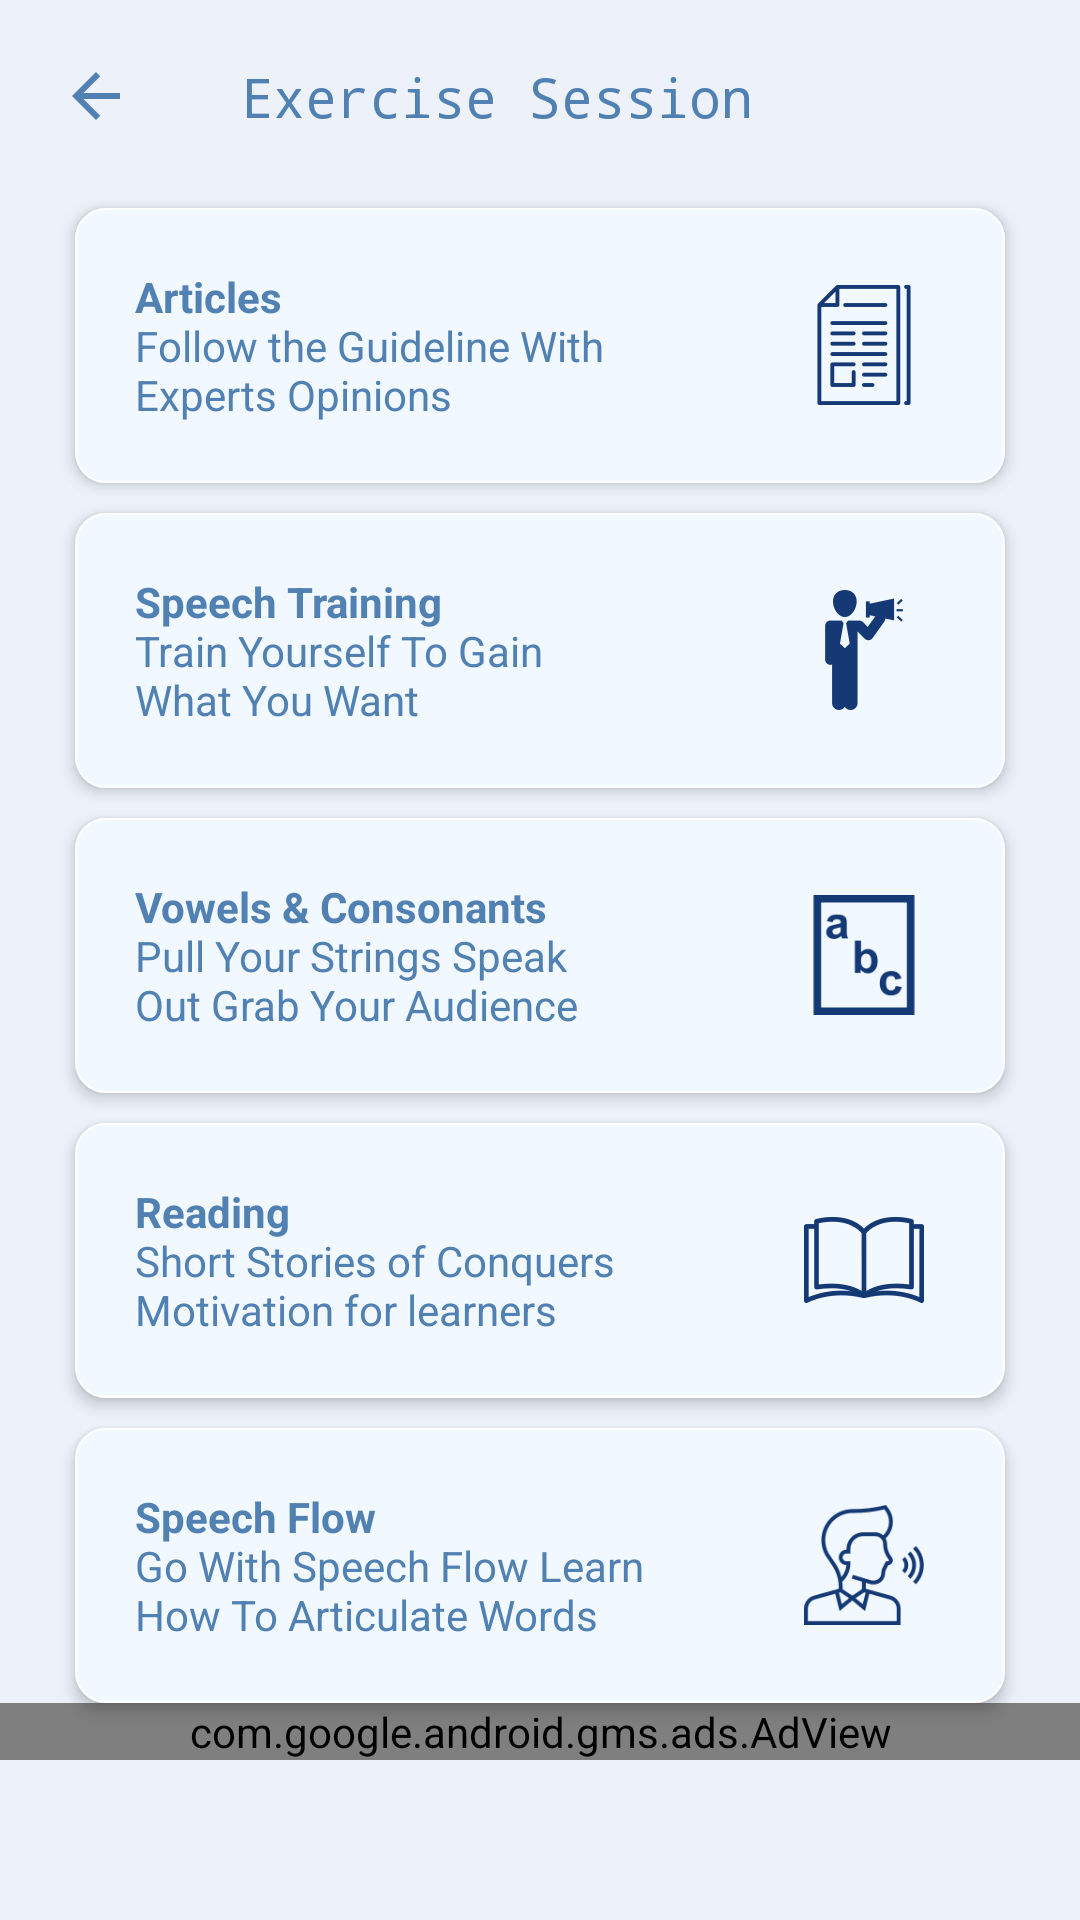

Icons on this 1080 x 1920 Android screen, each with the point to tap as (x=x, y=y):
arrow back: (x=96, y=96)
book: (x=864, y=1260)
voice: (x=864, y=1565)
